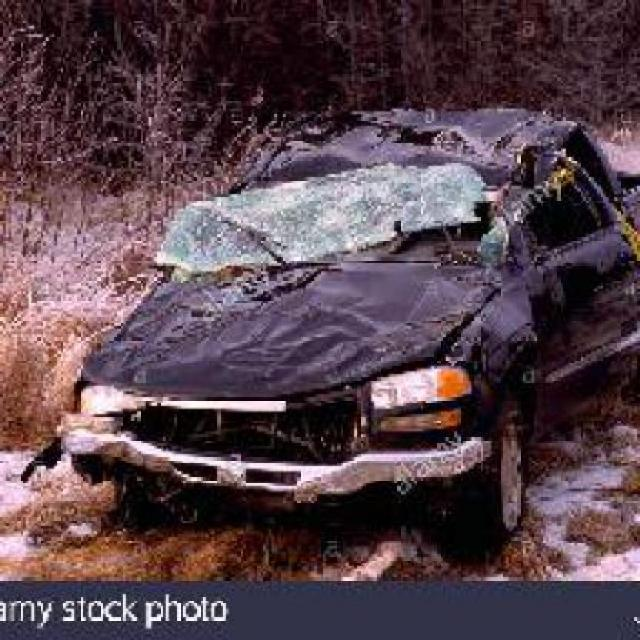damaged-front-bumper: (66, 408, 491, 498)
damaged-hood: (102, 273, 460, 389)
damaged-windscreen: (167, 169, 522, 257)
